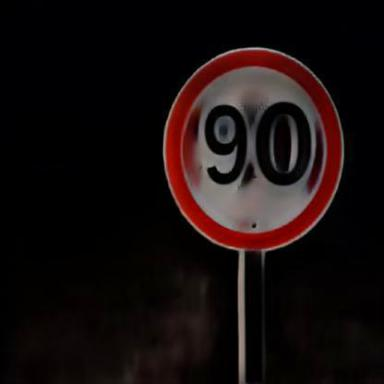Speed_limit_90: (166, 48, 340, 248)
